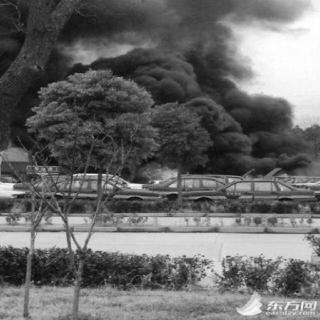Fire: (243, 173, 265, 181)
